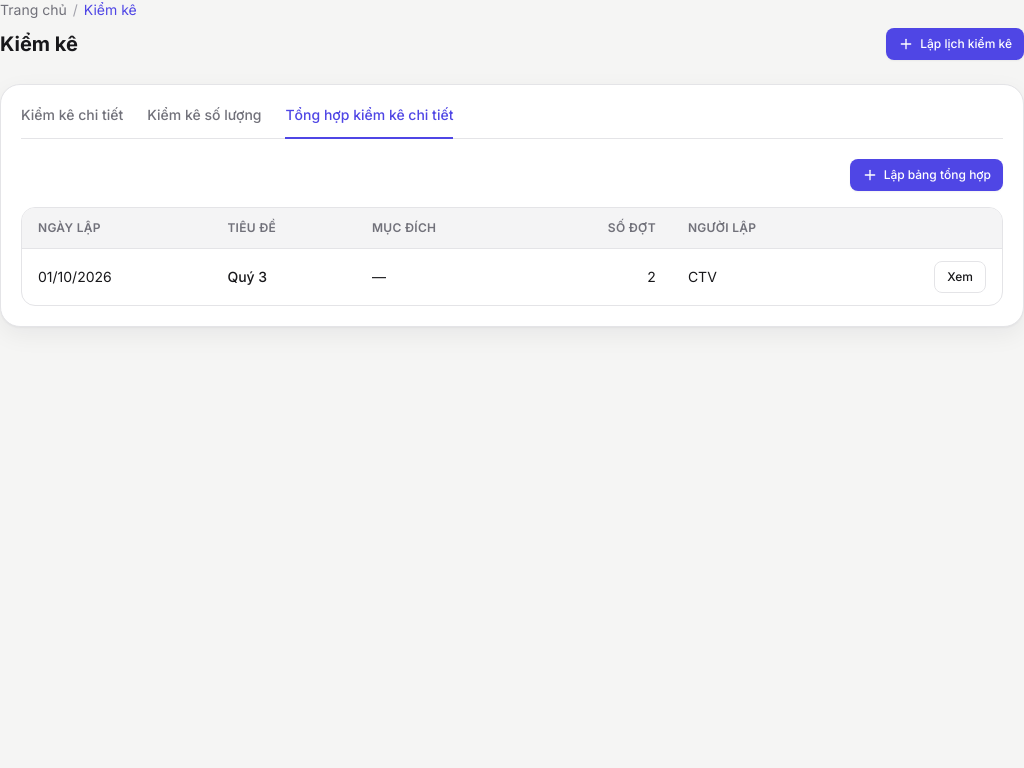
Test: Lập bảng tổng hợp: nhãn đợt có #id; lỗi gửi mất sau khi đóng và mở lại
The width and height of the screenshot is (1024, 768).
Step 1. Click the button "Lập bảng tổng hợp" → point(926, 175), box [850, 159, 1003, 191]
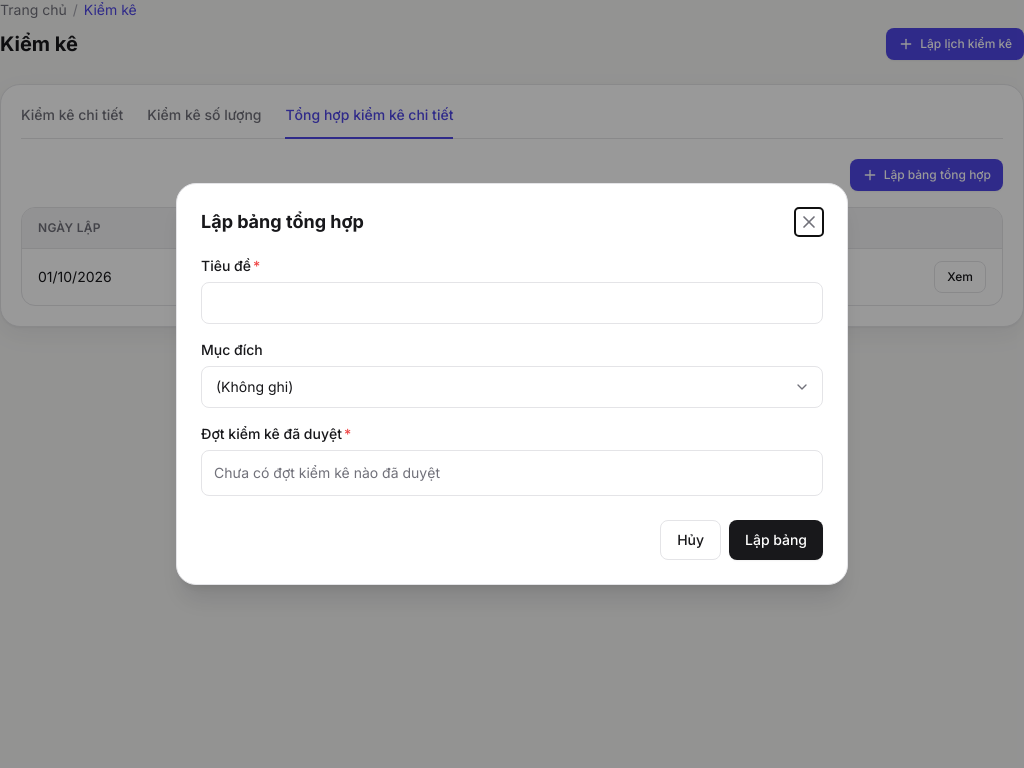
Step 2. Type "Quý 4" into the field labelled "Tiêu đề*" → point(512, 303), box [201, 282, 823, 324]
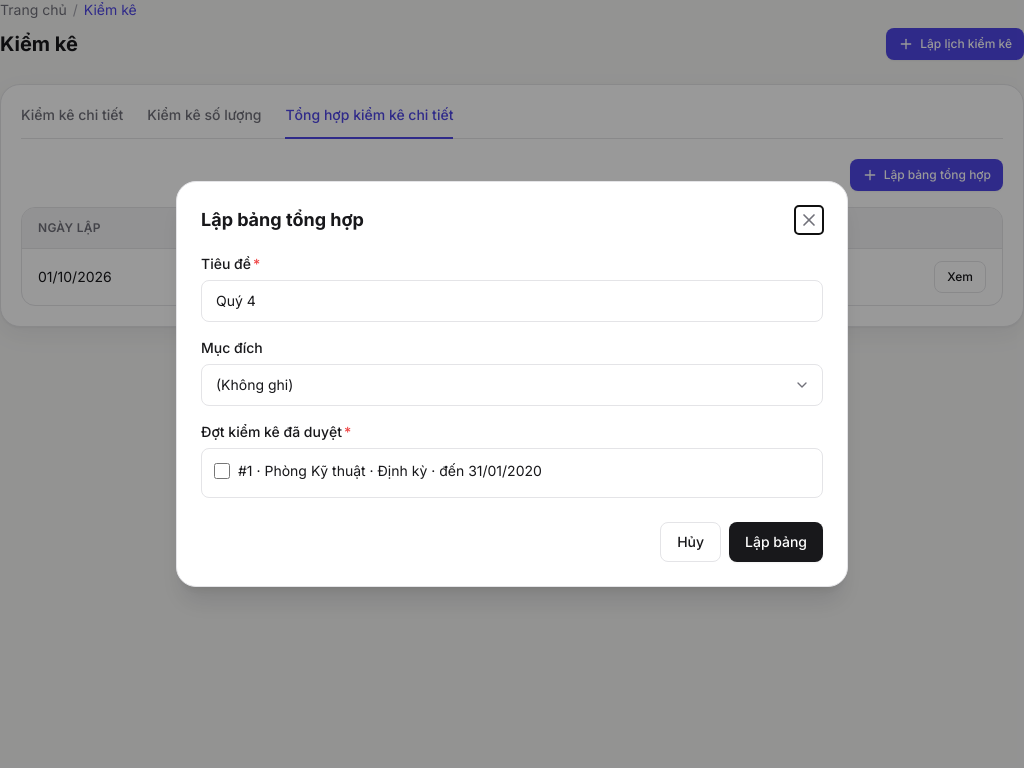
Step 3. Click the checkbox labelled "#1 · Phòng Kỹ thuật · Định kỳ · đến 31/01/2020" → point(222, 471), box [214, 463, 230, 479]
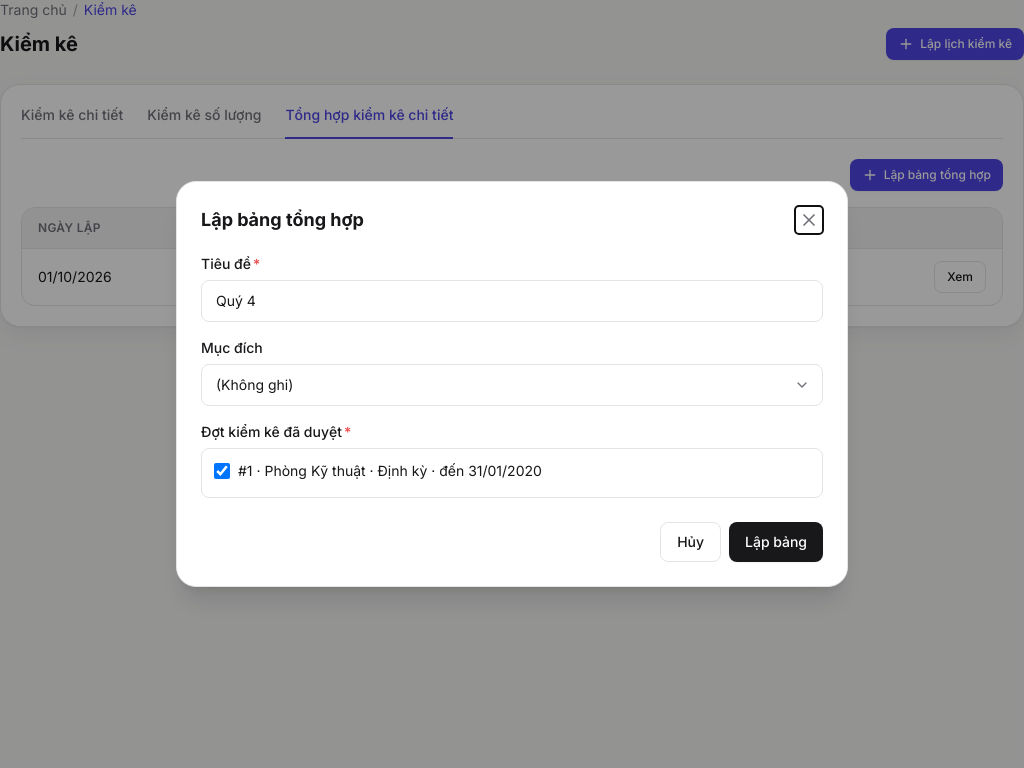
Step 4. Click the button "Lập bảng" → point(776, 542), box [729, 522, 823, 562]
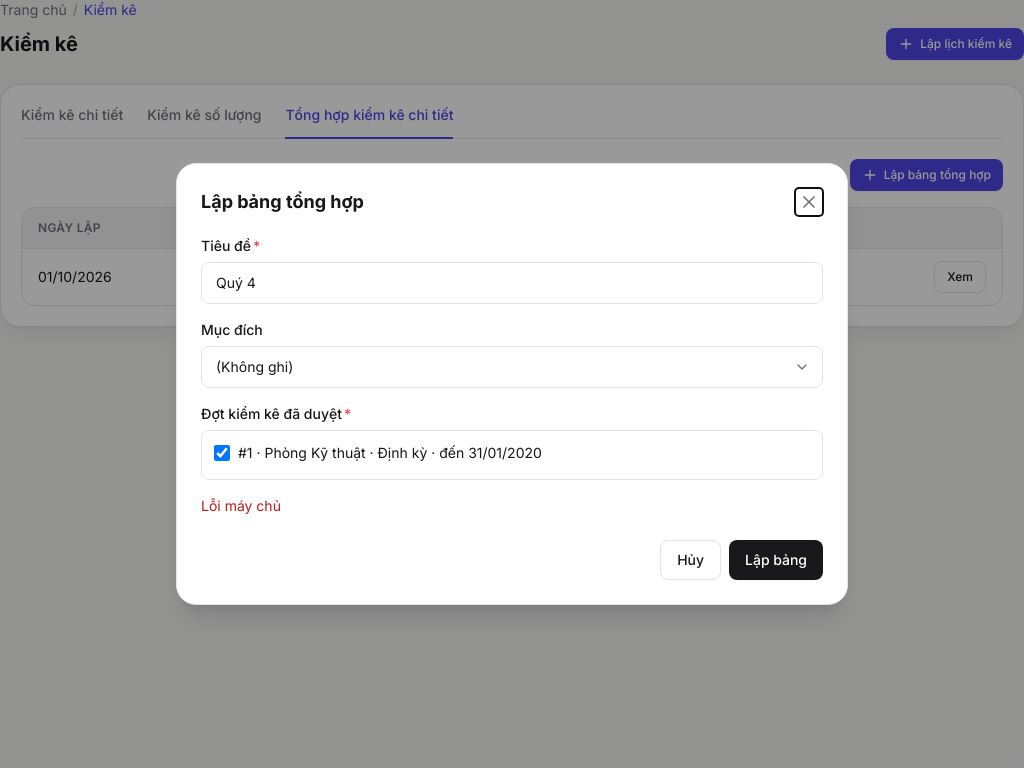
Expected: the text "Lỗi máy chủ" is shown, [201, 497, 281, 514]
Step 5. Click the button "Hủy" → point(691, 560), box [660, 540, 721, 580]
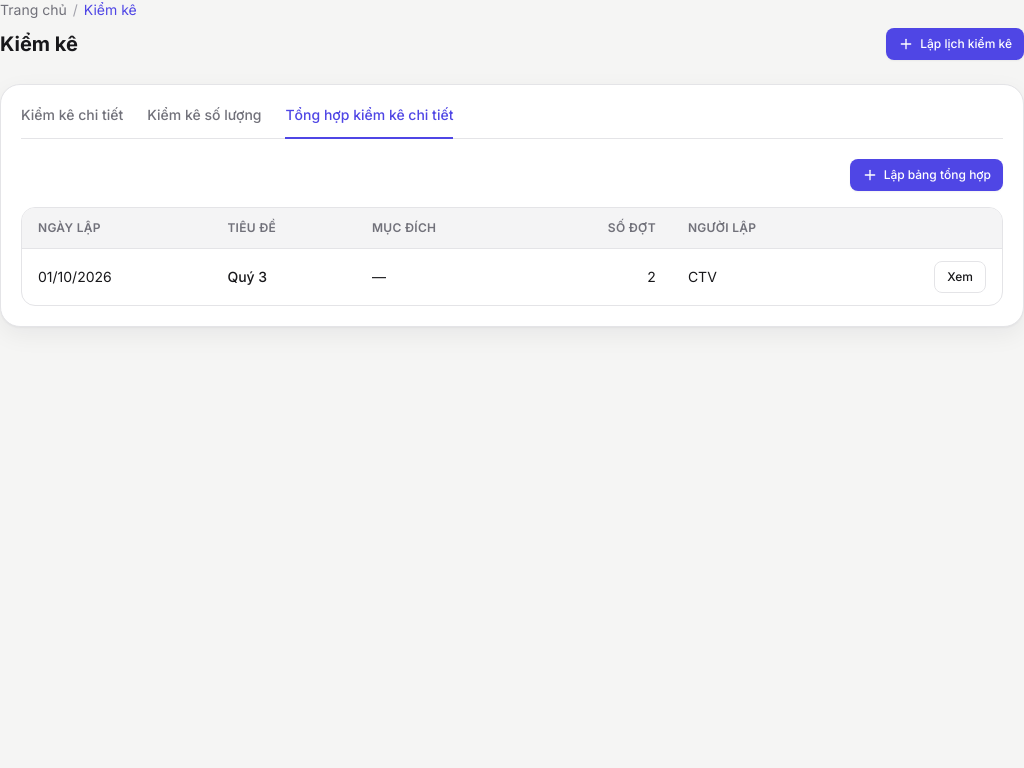
Step 6. Click the button "Lập bảng tổng hợp" → point(926, 175), box [850, 159, 1003, 191]
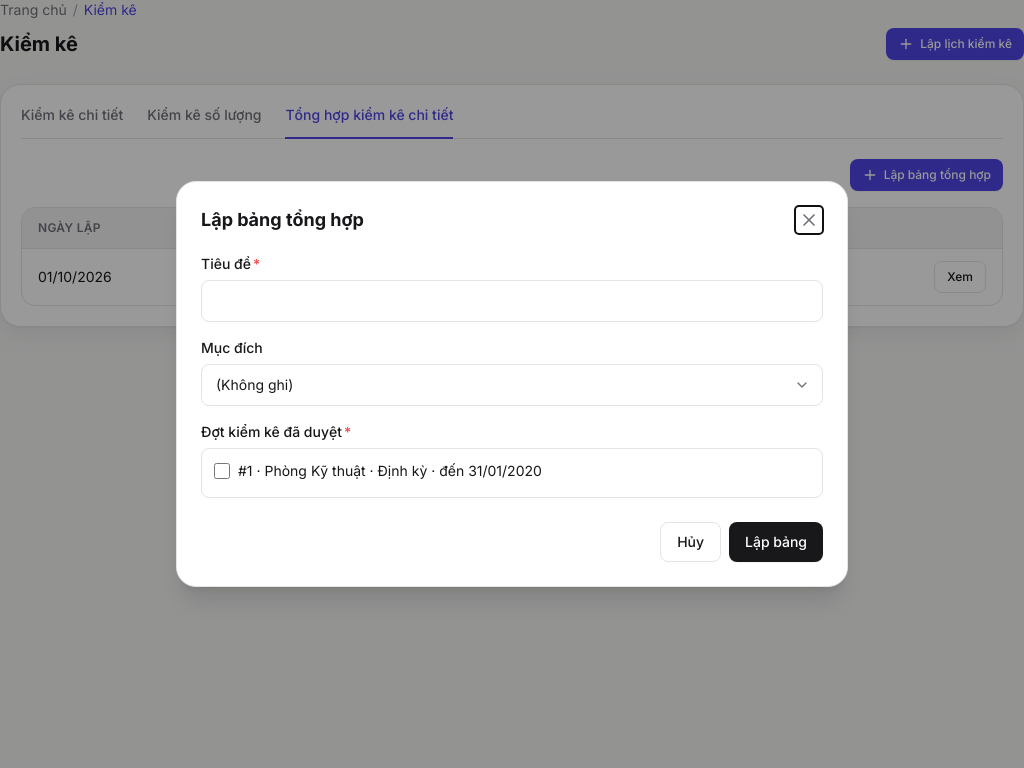
Expected: the text "Lỗi máy chủ" is not shown
Expected: the checkbox labelled "#1 · Phòng Kỹ thuật · Định kỳ · đến 31/01/2020" is shown, [214, 463, 230, 479]
